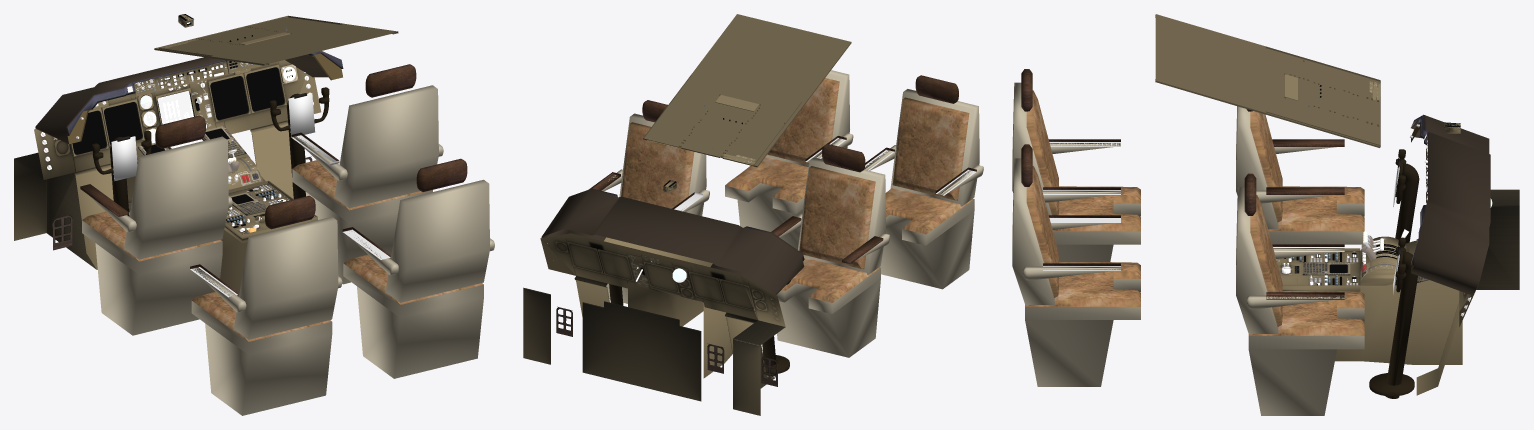
3 views of the same model, side by side, from view 1: azimuth 30°, elevation 25°; view 2: azimuth 150°, elevation 25°; view 3: azimuth 270°, elevation 25° (orthographic). The views are drawn at different scales.
Visible parts, largest first — view 1: static-material-15, static-material-35, static-material-3, static-material-18, static-material-57, static-material-17, static-material-0, static-material-21, static-material-2, live_pfd_2, static-material-16, static-material-40 (+6 smaller); view 2: static-material-17, static-material-35, static-material-15, static-material-3, static-material-57, static-material-18, static-material-21, static-material-1, static-material-0, static-material-16; view 3: static-material-15, static-material-17, static-material-3, static-material-57, static-material-21, static-material-0, static-material-35, static-material-18, static-material-23, static-material-16, static-material-40, static-material-19.
Boxes of the visible parts, left/top/right/bottom form: static-material-15: left=82, top=85, right=494, bottom=415; static-material-35: left=14, top=60, right=321, bottom=269; static-material-3: left=154, top=15, right=398, bottom=65; static-material-18: left=80, top=64, right=467, bottom=294; static-material-57: left=35, top=51, right=343, bottom=143; static-material-17: left=82, top=160, right=483, bottom=341; static-material-0: left=91, top=87, right=329, bottom=216; static-material-21: left=136, top=137, right=317, bottom=296; static-material-2: left=72, top=67, right=284, bottom=154; live_pfd_2: left=247, top=68, right=283, bottom=108; static-material-16: left=190, top=135, right=390, bottom=297; static-material-40: left=137, top=125, right=267, bottom=215; static-material-17: left=621, top=78, right=974, bottom=302; static-material-35: left=523, top=233, right=785, bottom=415; static-material-15: left=597, top=70, right=983, bottom=357; static-material-3: left=643, top=14, right=851, bottom=167; static-material-57: left=541, top=188, right=804, bottom=294; static-material-18: left=589, top=75, right=976, bottom=264; static-material-21: left=628, top=284, right=732, bottom=378; static-material-1: left=556, top=306, right=777, bottom=386; static-material-0: left=609, top=280, right=790, bottom=376; static-material-16: left=674, top=138, right=976, bottom=211; static-material-15: left=1012, top=82, right=1364, bottom=415; static-material-17: left=1025, top=90, right=1364, bottom=335; static-material-3: left=1155, top=14, right=1380, bottom=147; static-material-57: left=1410, top=114, right=1490, bottom=295; static-material-21: left=1276, top=240, right=1462, bottom=364; static-material-0: left=1369, top=149, right=1419, bottom=398; static-material-35: left=1416, top=189, right=1519, bottom=395; static-material-18: left=1021, top=69, right=1344, bottom=299; static-material-23: left=1360, top=236, right=1408, bottom=285; static-material-16: left=1043, top=142, right=1344, bottom=270; static-material-40: left=1302, top=239, right=1428, bottom=282; static-material-19: left=1284, top=133, right=1427, bottom=285.
Bounding box in the file's own units: 1.91 × 1.72 × 2.59.
Materials: 65 (52 with a texture image).
